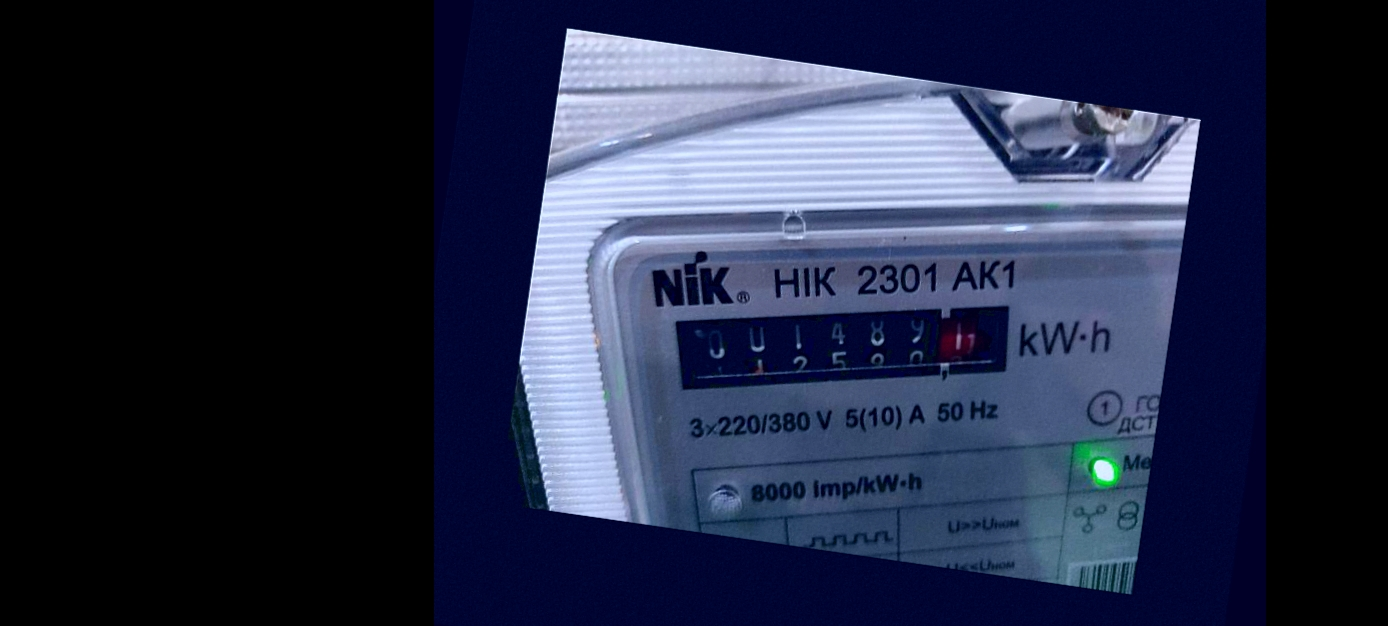0: (743, 316, 773, 356), (703, 325, 732, 363)
1: (948, 314, 972, 354), (787, 319, 812, 352)
4: (826, 314, 853, 348)
8: (866, 312, 892, 351)
9: (906, 312, 931, 346)
screen: (654, 247, 1047, 450)
